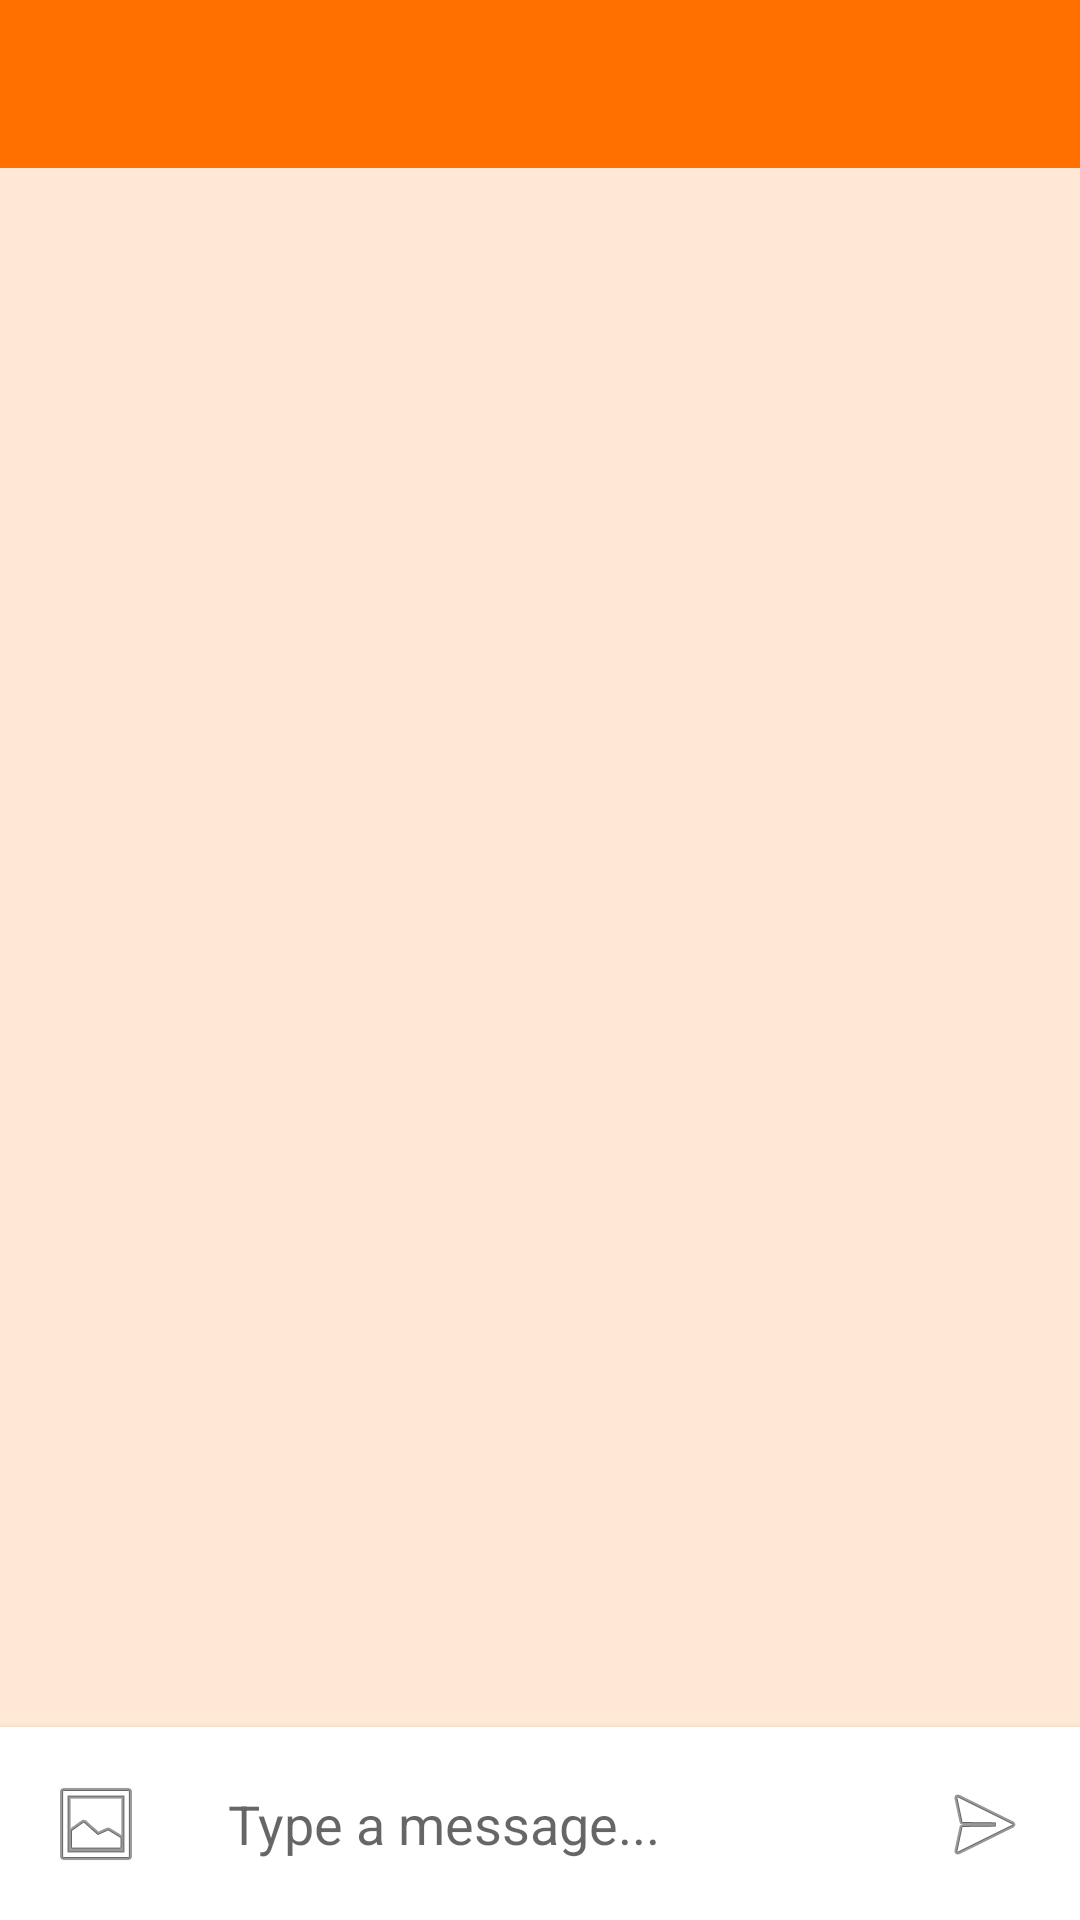

Screen size 1080 x 1920. Icon name, then its center in pixels as (x=x, y=y):
Attach image: (x=96, y=1824)
Send message: (x=985, y=1824)
